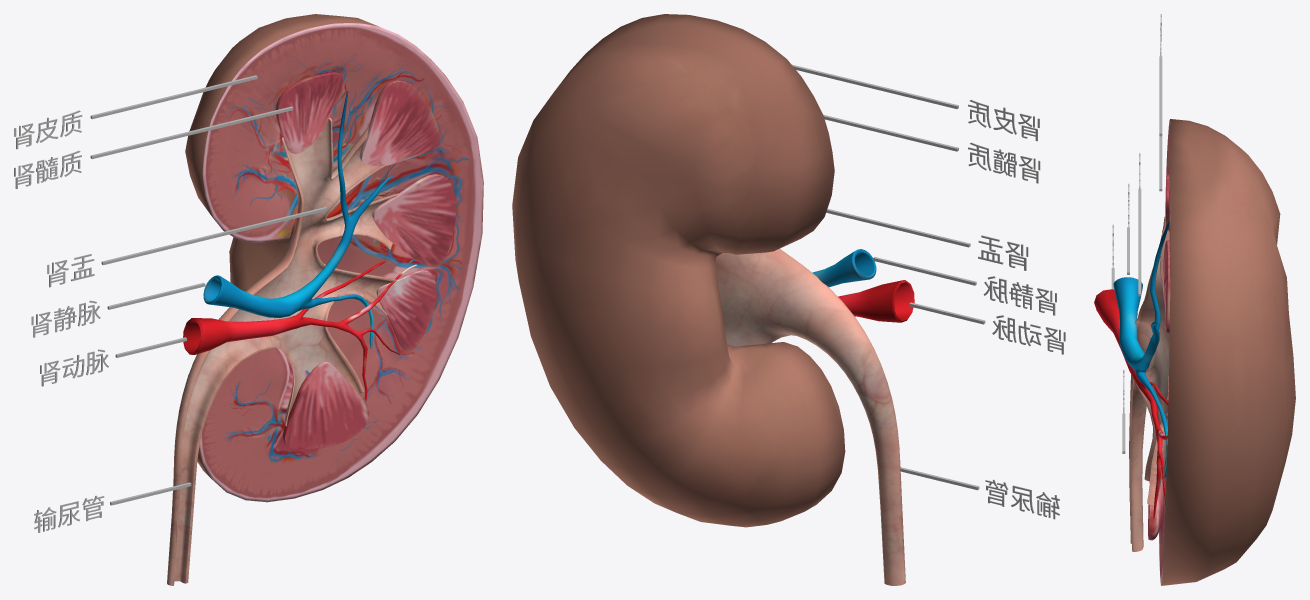
The model's file is shen.gltf.
The picture shows the model from 3 angles, left to right: view 1: azimuth 30°, elevation 25°; view 2: azimuth 150°, elevation 25°; view 3: azimuth 270°, elevation 25°; orthographic projection. The views are drawn at different scales.
Parts seen in each view (by area): view 1: kidney1, pCube6, SSZ, SNG, pCube2, SJM, SDM, SPZ, pCube1, SY; view 2: kidney1, SSZ, SNG, SJM, SDM, SPZ, pCube1, pCube6, SY; view 3: kidney1, pCube6, pCube1.
Boxes of the visible parts, left/top/right/bottom form: kidney1: left=167, top=14, right=483, bottom=585; pCube6: left=101, top=207, right=327, bottom=265; SSZ: left=14, top=150, right=81, bottom=188; SNG: left=34, top=495, right=104, bottom=532; pCube2: left=90, top=106, right=293, bottom=159; SJM: left=31, top=300, right=100, bottom=337; SDM: left=40, top=349, right=108, bottom=386; SPZ: left=14, top=110, right=82, bottom=149; pCube1: left=90, top=75, right=257, bottom=119; SY: left=47, top=254, right=94, bottom=287; kidney1: left=512, top=14, right=914, bottom=585; SSZ: left=968, top=142, right=1040, bottom=183; SNG: left=985, top=479, right=1059, bottom=519; SJM: left=983, top=276, right=1056, bottom=315; SDM: left=992, top=315, right=1065, bottom=354; SPZ: left=968, top=99, right=1039, bottom=141; pCube1: left=791, top=64, right=958, bottom=108; pCube6: left=826, top=208, right=970, bottom=247; SY: left=978, top=235, right=1028, bottom=270; kidney1: left=1094, top=119, right=1295, bottom=585; pCube6: left=1138, top=188, right=1141, bottom=296; pCube1: left=1159, top=56, right=1162, bottom=136.
Size of the model in its own units: 22.67 by 23.15 by 8.71.
4 materials, 3 textured.
